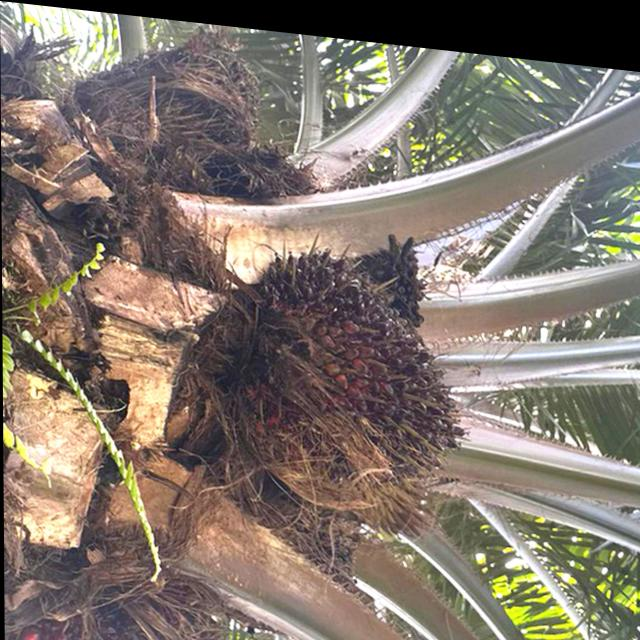ripe: (220, 206, 478, 529)
